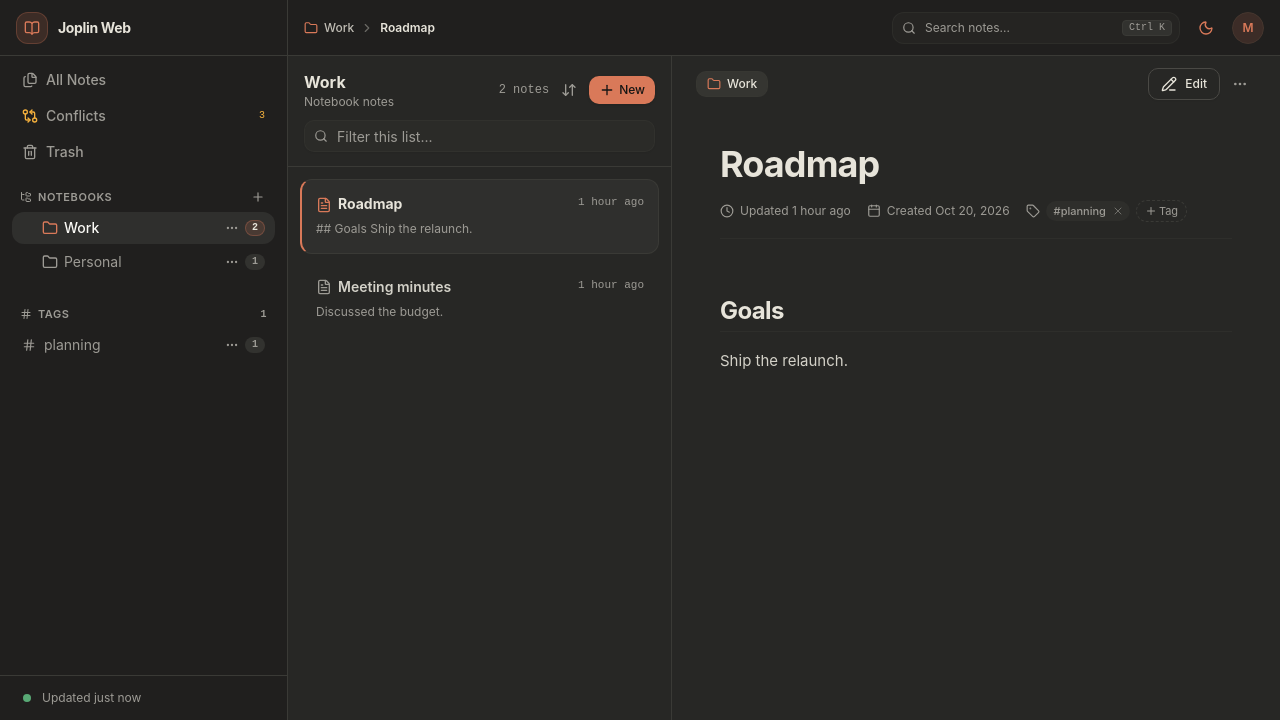
Test: NotesPage › filters by tag from the URL and from a tag on the open note
The width and height of the screenshot is (1280, 720).
Note: Tag chip in the note viewer
What coordinates should you click on to do the following:
click the button "#planning"
I would click on:
 (1078, 211)
Its box is [1046, 201, 1110, 221].
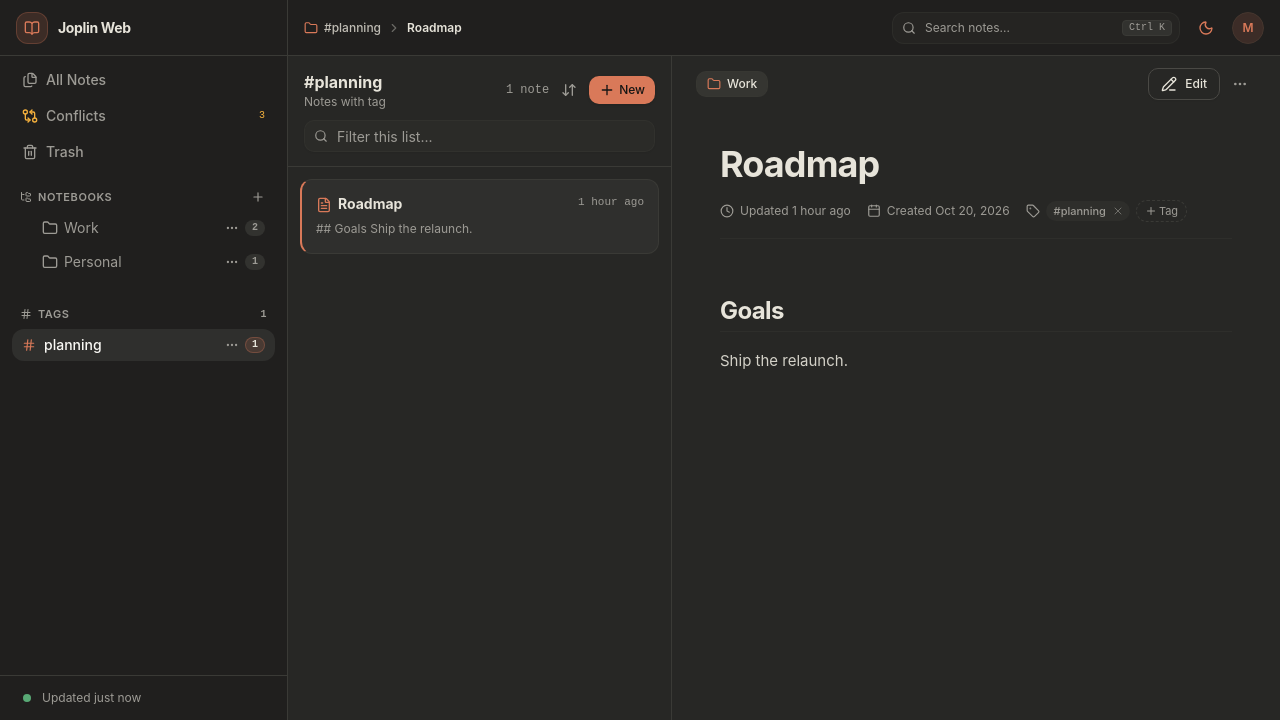
Check: the text "Notes with tag" is shown, box [304, 94, 386, 110]
Check: the button "Meeting minutes" is gone
